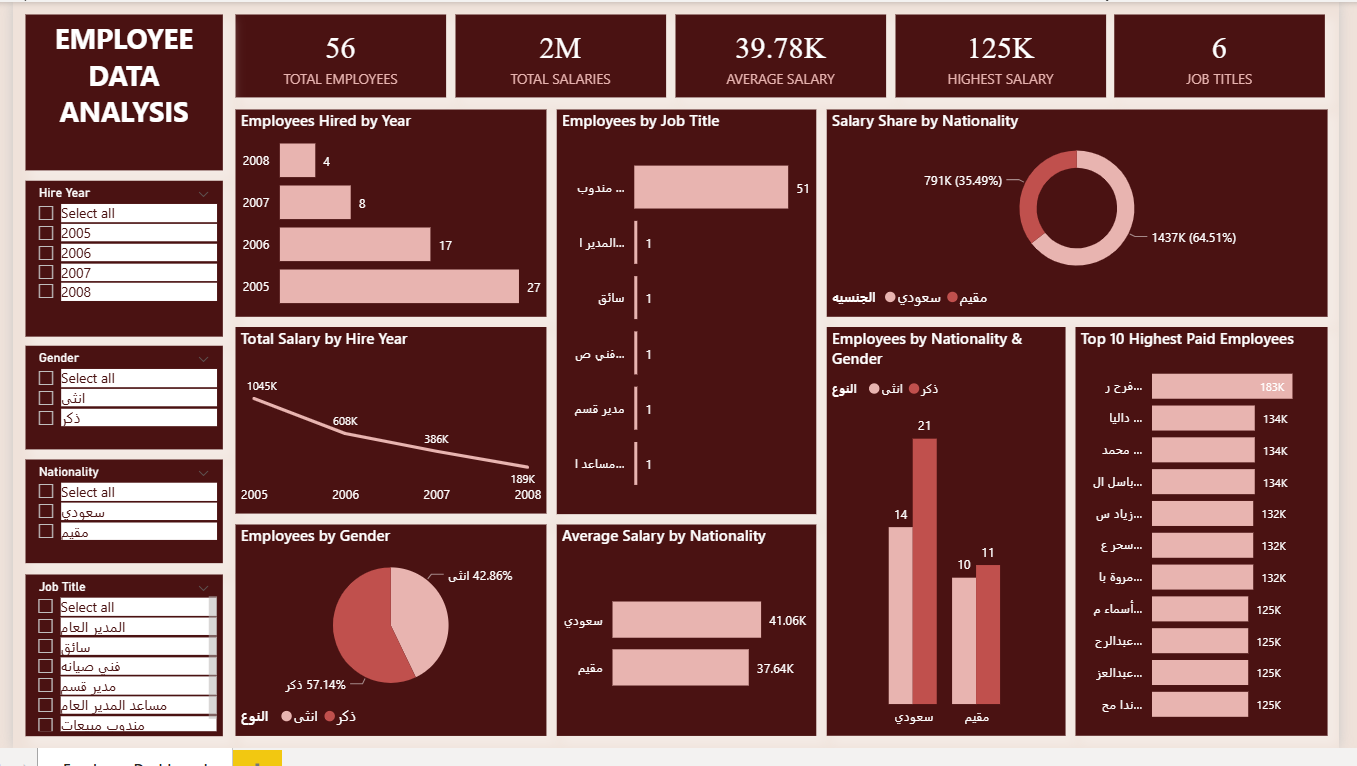

Layout of this report page (visuals, bound fields, positions):
{"tool":"powerbi","page":{"name":"Employee Dashboard","canvas":[1280,720],"ordinal":0},"visuals":[{"type":"card","fields":{"Values":["CountNonNull(Sheet1.رقم الموظف)"]},"box":[215,12,203,80],"z":1000},{"type":"card","fields":{"Values":["Sum(Sheet1.الراتب)"]},"box":[427,12,203,80],"z":2000},{"type":"card","fields":{"Values":["Avg(Sheet1.الراتب)"]},"box":[639,12,203,80],"z":3000},{"type":"card","fields":{"Values":["Max(Sheet1.الراتب)"]},"box":[851,12,203,80],"z":4000},{"type":"card","fields":{"Values":["Count(Sheet1.المهنه)"]},"box":[1063,12,203,80],"z":5000},{"type":"textbox","box":[12,12,190,150],"z":6000},{"type":"slicer","fields":{"Values":["Sheet1.تاريخ المباشرة  .Variation.Date Hierarchy.Year"]},"box":[12,172,190,150],"z":7000},{"type":"slicer","fields":{"Values":["Sheet1.النوع "]},"box":[12,332,190,100],"z":8000},{"type":"slicer","fields":{"Values":["Sheet1.الجنسيه"]},"box":[12,442,190,100],"z":9000},{"type":"slicer","fields":{"Values":["Sheet1.المهنه"]},"box":[12,552,190,156],"z":10000},{"type":"clusteredBarChart","title":"Employees Hired by Year","fields":{"Category":["Sheet1.تاريخ المباشرة  .Variation.Date Hierarchy.Year"],"Y":["CountNonNull(Sheet1.رقم الموظف)"]},"box":[215,104,300,200],"z":11000},{"type":"lineChart","title":"Total Salary by Hire Year","fields":{"Category":["Sheet1.تاريخ المباشرة  .Variation.Date Hierarchy.Year"],"Y":["Sum(Sheet1.الراتب)"]},"box":[215,314,300,180],"z":12000},{"type":"pieChart","title":"Employees by Gender","fields":{"Category":["Sheet1.النوع "],"Y":["CountNonNull(Sheet1.رقم الموظف)"]},"box":[215,504,300,204],"z":13000},{"type":"clusteredBarChart","title":"Employees by Job Title","fields":{"Category":["Sheet1.المهنه"],"Y":["CountNonNull(Sheet1.رقم الموظف)"]},"box":[525,104,250,390],"z":14000},{"type":"clusteredBarChart","title":"Average Salary by Nationality","fields":{"Category":["Sheet1.الجنسيه"],"Y":["Avg(Sheet1.الراتب)"]},"box":[525,504,250,204],"z":15000},{"type":"donutChart","title":"Salary Share by Nationality","fields":{"Category":["Sheet1.الجنسيه"],"Y":["Sum(Sheet1.الراتب)"]},"box":[785,104,483,200],"z":16000},{"type":"clusteredColumnChart","title":"Employees by Nationality & Gender","fields":{"Category":["Sheet1.الجنسيه"],"Series":["Sheet1.النوع "],"Y":["CountNonNull(Sheet1.رقم الموظف)"]},"box":[785,314,230,394],"z":17000},{"type":"clusteredBarChart","title":"Top 10 Highest Paid Employees","fields":{"Category":["Sheet1.الاسم"],"Y":["Sum(Sheet1.الراتب)"]},"box":[1025,314,243,394],"z":18000}]}

Visuals, with their boxes in screenshot pixels (x1, y1, x2, y2), scaled from the page's 1280x720 canvas onto the 1357x766 screenshot:
card - CountNonNull(Sheet1.رقم الموظف): select_region(228, 13, 443, 98)
card - Sum(Sheet1.الراتب): select_region(453, 13, 668, 98)
card - Avg(Sheet1.الراتب): select_region(677, 13, 893, 98)
card - Max(Sheet1.الراتب): select_region(902, 13, 1117, 98)
card - Count(Sheet1.المهنه): select_region(1127, 13, 1342, 98)
textbox: select_region(13, 13, 214, 172)
slicer - Sheet1.تاريخ المباشرة  .Variation.Date Hierarchy.Year: select_region(13, 183, 214, 343)
slicer - Sheet1.النوع : select_region(13, 353, 214, 460)
slicer - Sheet1.الجنسيه: select_region(13, 470, 214, 577)
slicer - Sheet1.المهنه: select_region(13, 587, 214, 753)
"Employees Hired by Year" clusteredBarChart: select_region(228, 111, 546, 323)
"Total Salary by Hire Year" lineChart: select_region(228, 334, 546, 526)
"Employees by Gender" pieChart: select_region(228, 536, 546, 753)
"Employees by Job Title" clusteredBarChart: select_region(557, 111, 822, 526)
"Average Salary by Nationality" clusteredBarChart: select_region(557, 536, 822, 753)
"Salary Share by Nationality" donutChart: select_region(832, 111, 1344, 323)
"Employees by Nationality & Gender" clusteredColumnChart: select_region(832, 334, 1076, 753)
"Top 10 Highest Paid Employees" clusteredBarChart: select_region(1087, 334, 1344, 753)
